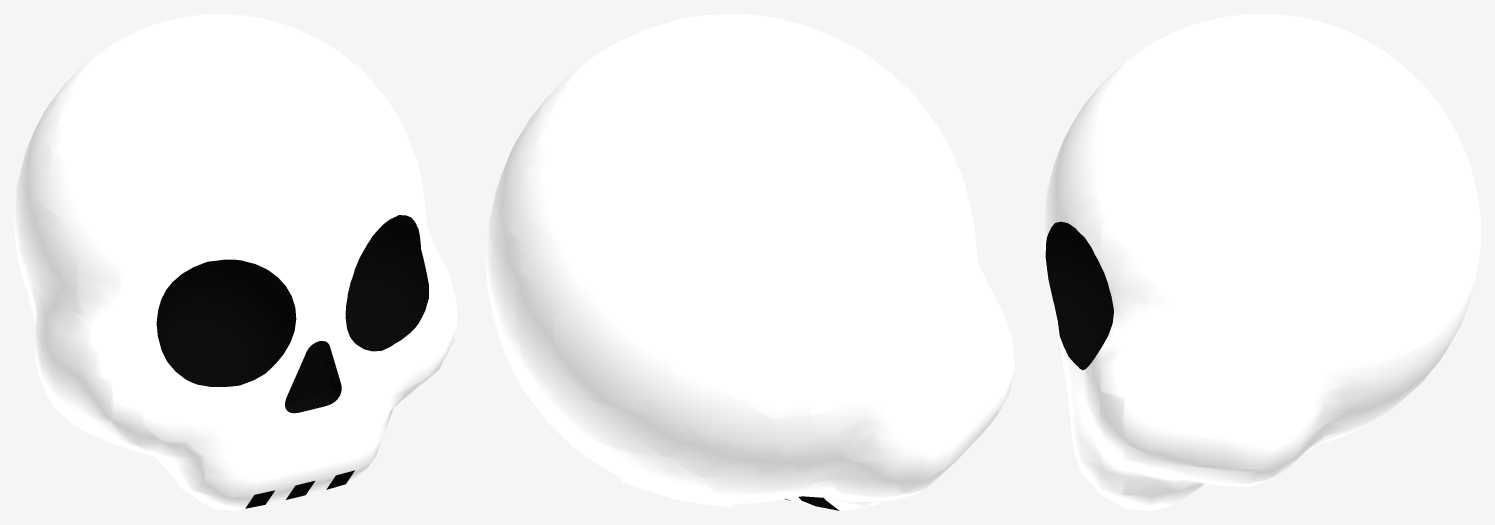
3 renders of one model, left to right at view 1: azimuth 30°, elevation 25°; view 2: azimuth 150°, elevation 25°; view 3: azimuth 270°, elevation 25°, orthographic. The views are drawn at different scales.
Visible parts, largest first — view 1: Skull; view 2: Skull; view 3: Skull.
Part boxes in pixels (box(x1,y1,x2,y2)): Skull: box(14, 14, 457, 510); Skull: box(486, 14, 1014, 510); Skull: box(1043, 14, 1480, 510).
Size of the model in its own units: 1.53 by 1.66 by 1.47.
1 material, 1 textured.
